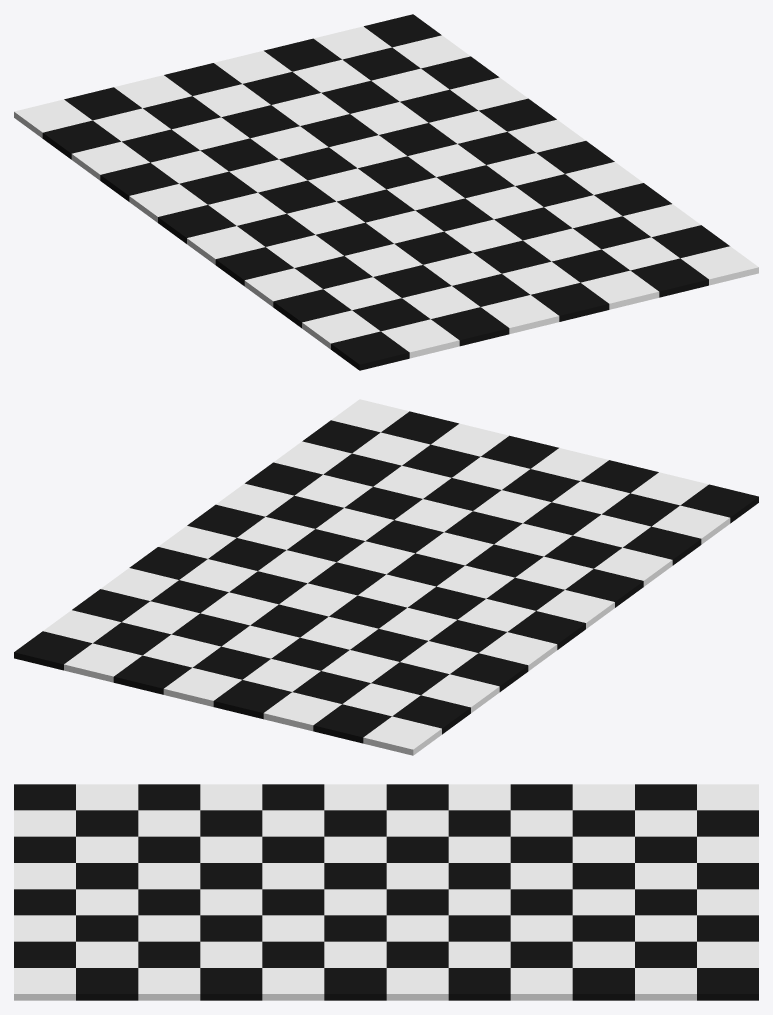
Rendered from baseFloor2_asset.fbx.
3 renders of one model, top to bottom at view 1: azimuth 30°, elevation 25°; view 2: azimuth 150°, elevation 25°; view 3: azimuth 270°, elevation 25°, orthographic. The views are drawn at different scales.
Parts seen in each view (by area): view 1: Plane.001; view 2: Plane.001; view 3: Plane.001.
Part boxes in pixels (x1,y1,x2,y2): Plane.001: (14, 14, 758, 370); Plane.001: (14, 399, 758, 755); Plane.001: (14, 784, 758, 1000).
Bounding box in the file's own units: 800 × 11.77 × 1200.
2 materials, 2 textured.
